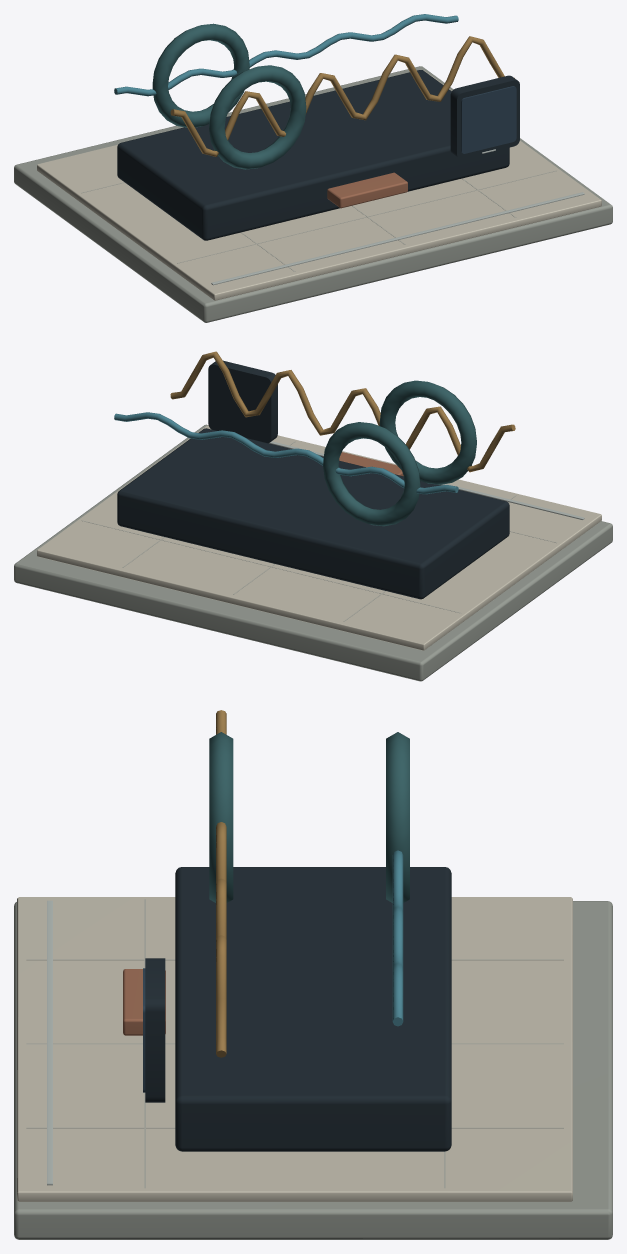
Rendered from idea-ffc6ec82.glb.
The picture shows the model from 3 angles, top to bottom: view 1: azimuth 30°, elevation 25°; view 2: azimuth 150°, elevation 25°; view 3: azimuth 270°, elevation 25°; orthographic projection. The views are drawn at different scales.
Parts seen in each view (by area): view 1: Disturbed-Flow Recoverability; view 2: Disturbed-Flow Recoverability; view 3: Disturbed-Flow Recoverability.
Part boxes in pixels (x1,y1,x2,y2): Disturbed-Flow Recoverability: [14, 14, 612, 322]; Disturbed-Flow Recoverability: [14, 351, 612, 681]; Disturbed-Flow Recoverability: [14, 710, 612, 1239].
Size of the model in its own units: 4.8 by 2.02 by 3.9.
